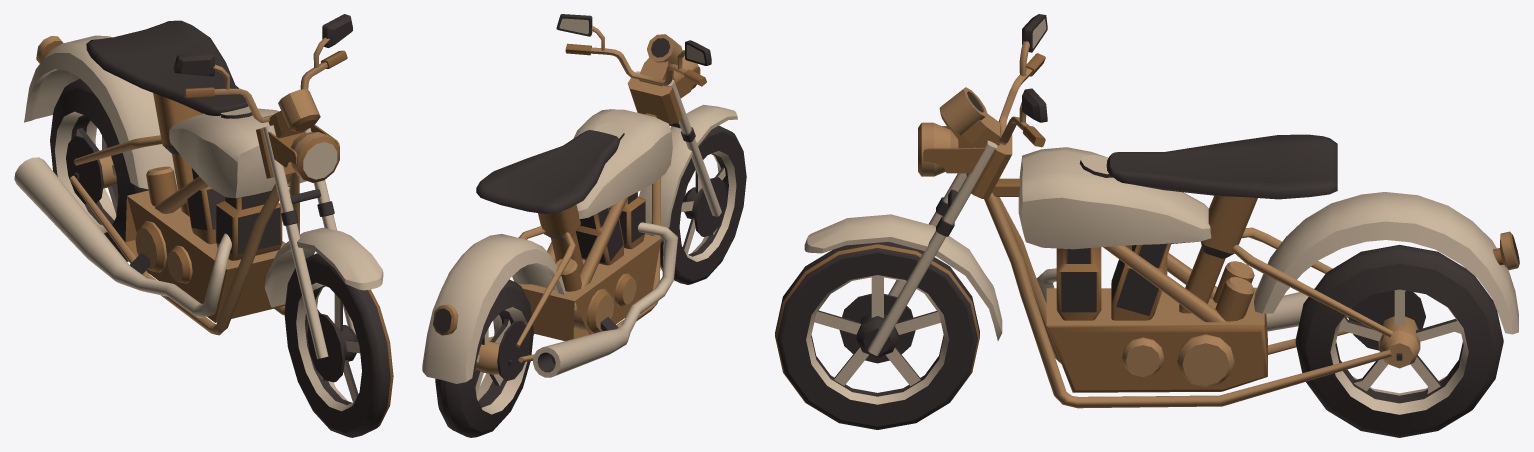
Rendered from Motocyle.fbx.
3 views of the same model, side by side, from view 1: azimuth 30°, elevation 25°; view 2: azimuth 150°, elevation 25°; view 3: azimuth 270°, elevation 25° (orthographic). The views are drawn at different scales.
Visible parts, largest first — view 1: Moto_2; view 2: Moto_2; view 3: Moto_2.
Part boxes in pixels (bbox=[...]): Moto_2: bbox=[14, 14, 393, 437]; Moto_2: bbox=[422, 14, 746, 437]; Moto_2: bbox=[775, 14, 1519, 437].
Bounding box in the file's own units: 56.02 × 103 × 186.
1 material, 1 textured.
